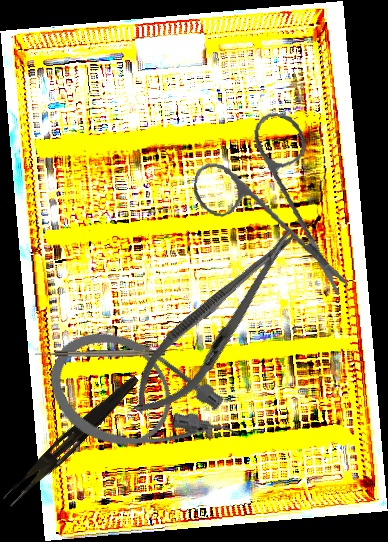Cannula: (32, 312, 256, 496)
Dressing Forceps: (1, 367, 142, 513)
Hook Surgical: (35, 350, 165, 357)
Iris Scissors: (181, 103, 371, 296)
Needle Holder: (116, 214, 315, 431)
